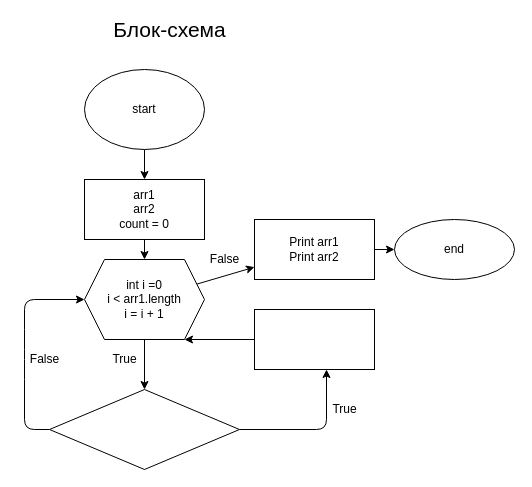
The diagram is 532 pixels wide and 487 high, and some of its shapes have lost their labels. The centre of each missing label's shape, as x and y in pixels:
"arr1[i].length <= 3" goes at (x=144, y=429).
"arr2[count] = arr1[i] count = count + 1" goes at (x=314, y=339).
